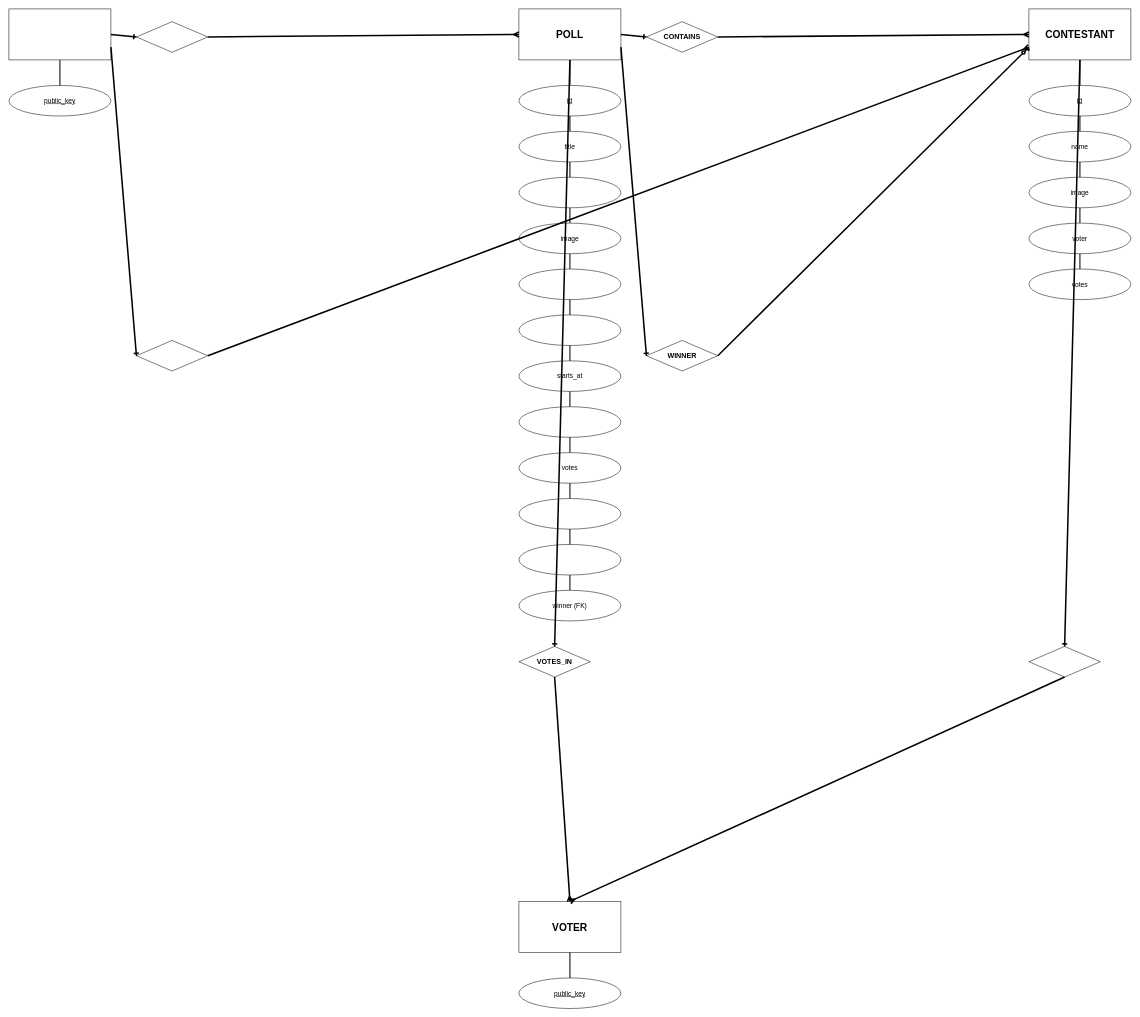
The diagram is 1140 pixels wide and 1017 high, and some of its shapes have lost their labels. The shapes that lost their labels are listed below. From the top down, each one's centre as x and y in pixels, then its label:
(59,34): ADMIN
(172,36): CREATES
(569,192): description
(569,284): director
(569,330): timestamp
(172,355): ADDS
(569,421): ends_at
(569,513): finalized
(569,559): deleted
(1064,661): VOTES_FOR
